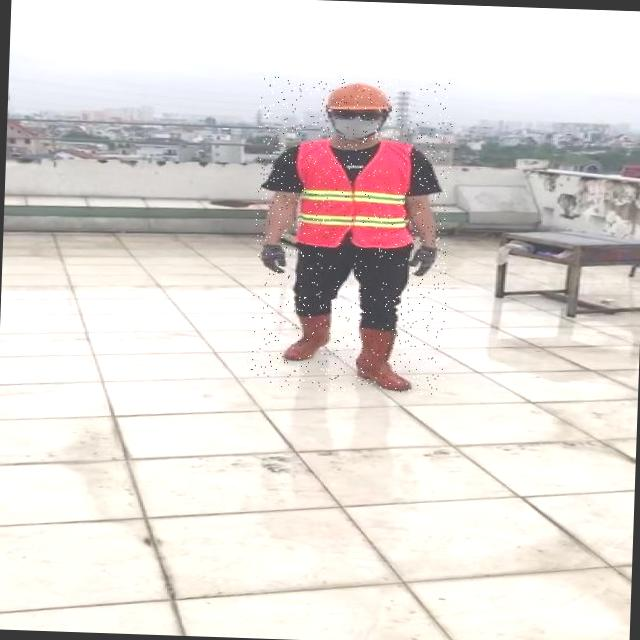boots: (353, 324, 412, 391), (281, 313, 333, 362)
helmet: (322, 80, 393, 115)
vest: (292, 137, 414, 248)
